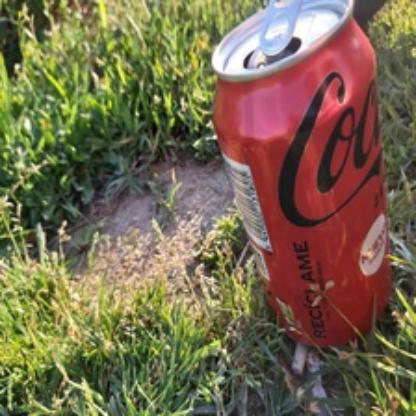Can: (211, 0, 391, 346)
